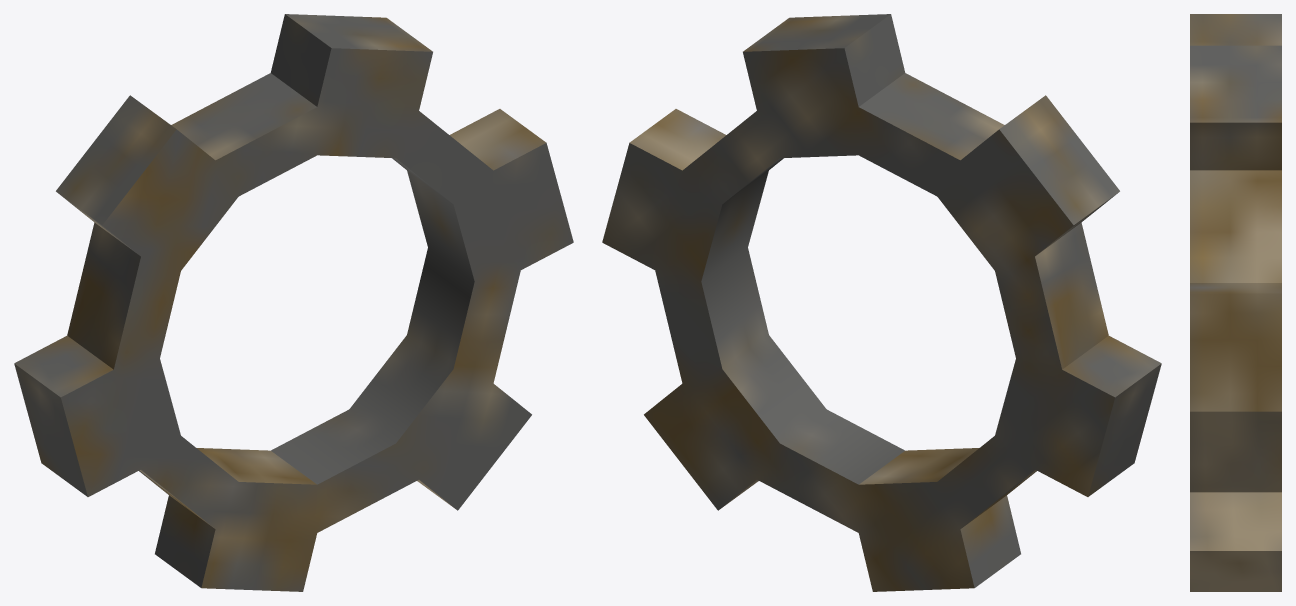
File: Engrenagem_2.glb
The picture shows the model from 3 angles, left to right: view 1: azimuth 30°, elevation 25°; view 2: azimuth 150°, elevation 25°; view 3: azimuth 270°, elevation 25°; orthographic projection.
Visible parts, largest first — view 1: Engrenagem.2; view 2: Engrenagem.2; view 3: Engrenagem.2.
Part boxes in pixels (left/top/right/bottom): Engrenagem.2: left=14, top=14, right=573, bottom=591; Engrenagem.2: left=602, top=14, right=1161, bottom=591; Engrenagem.2: left=1190, top=14, right=1281, bottom=591.
Size of the model in its own units: 0.3739 by 0.3739 by 0.0589.
Materials: 1 (1 with a texture image).
